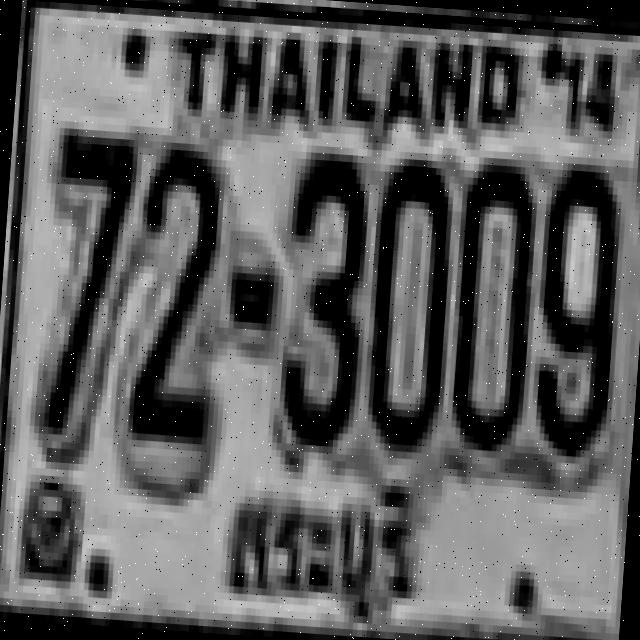0: (360, 153, 456, 450), (444, 160, 534, 448)
2: (123, 137, 227, 434), (125, 137, 222, 406)
3: (272, 147, 366, 450)
7: (29, 120, 134, 445)
9: (528, 158, 624, 454)
SaraBuri: (212, 476, 426, 636)
